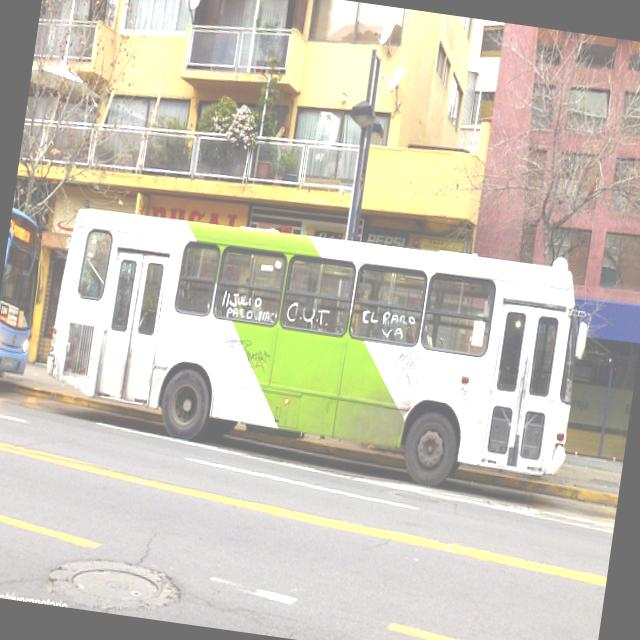Vehicle: (40, 186, 599, 508), (0, 211, 55, 373)
